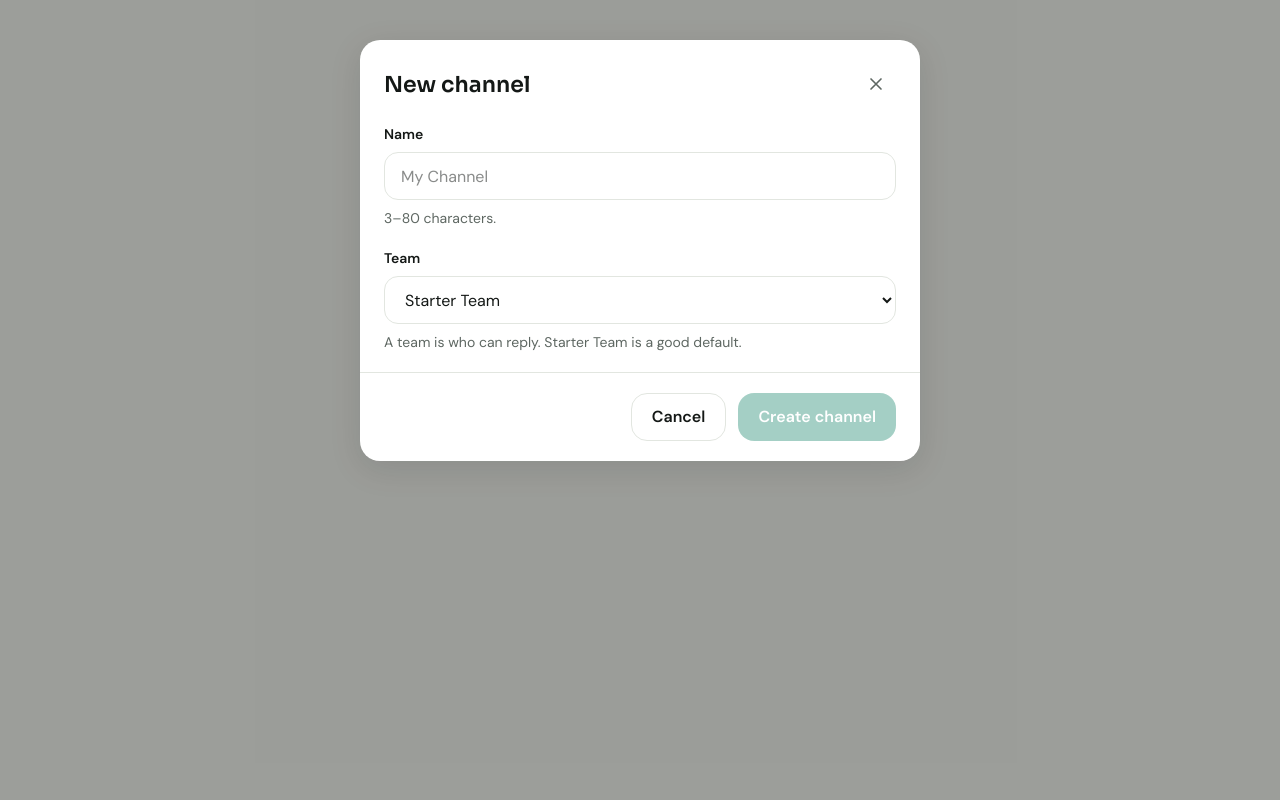
Test: NewChannelSheet.svelte › keeps Create disabled until the name is 3–80 characters
The width and height of the screenshot is (1280, 800).
Expected: the dropdown labelled "Team" shows "Starter Team", [384,276,896,324]
Type "ai" into the field labelled "Name" at (640, 176), box [384,152,896,200]
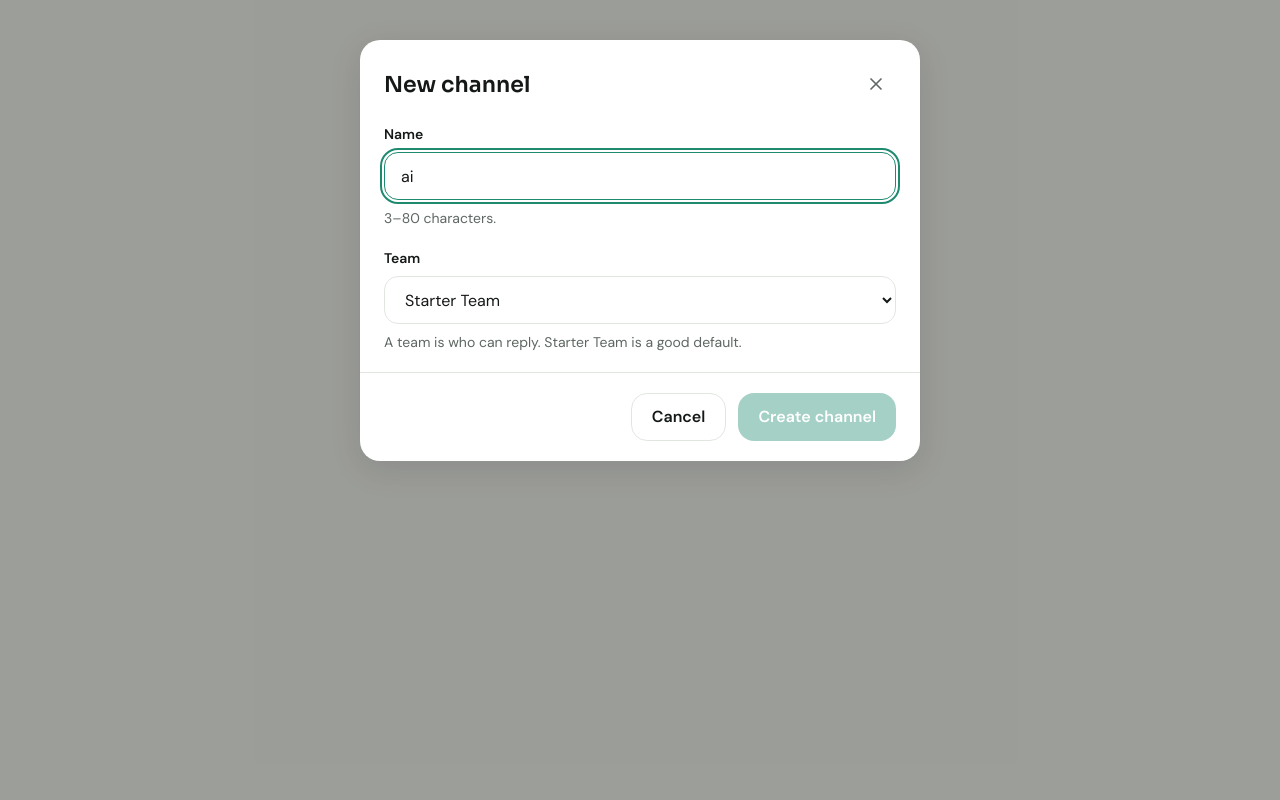
Expected: the button "Create channel" is disabled, [738,393,896,441]
Replace the text in the field labelled "Name" with "ops" at (640, 176), box [384,152,896,200]
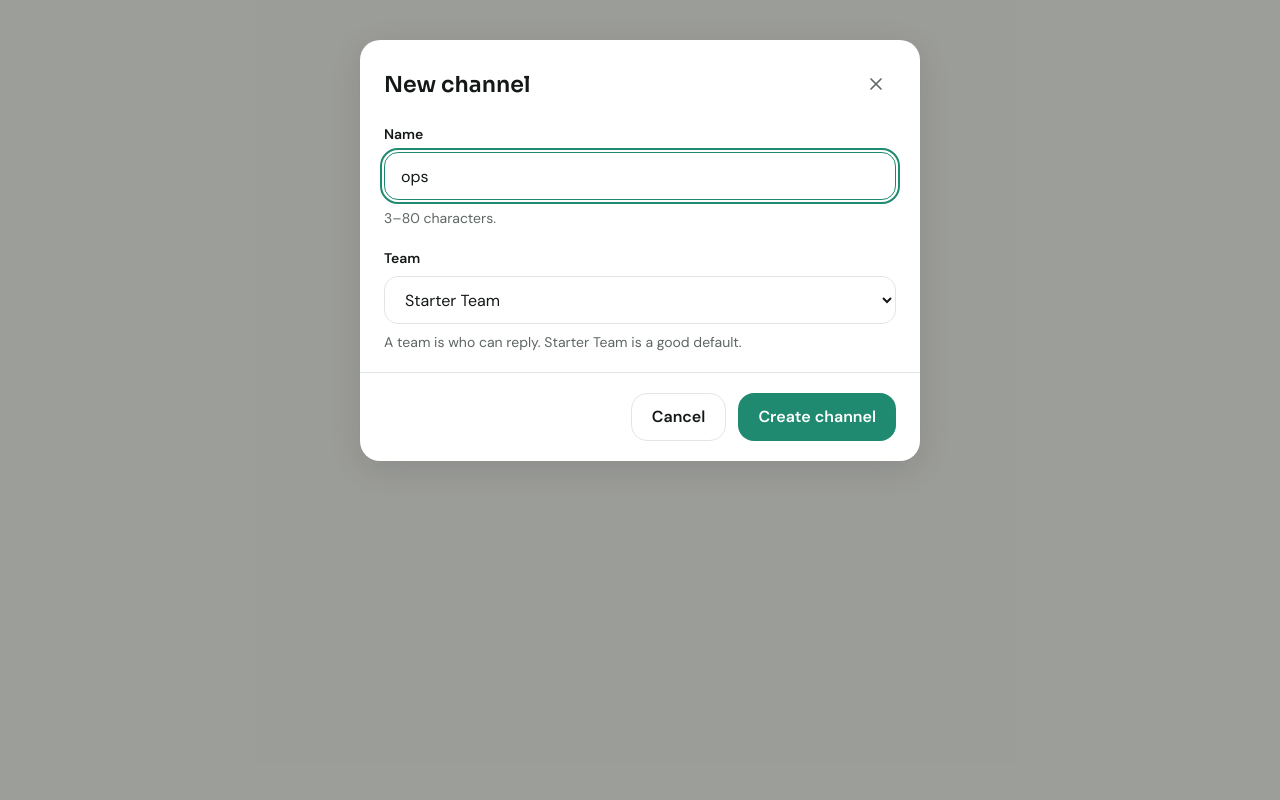
Expected: the button "Create channel" is enabled, [738,393,896,441]
